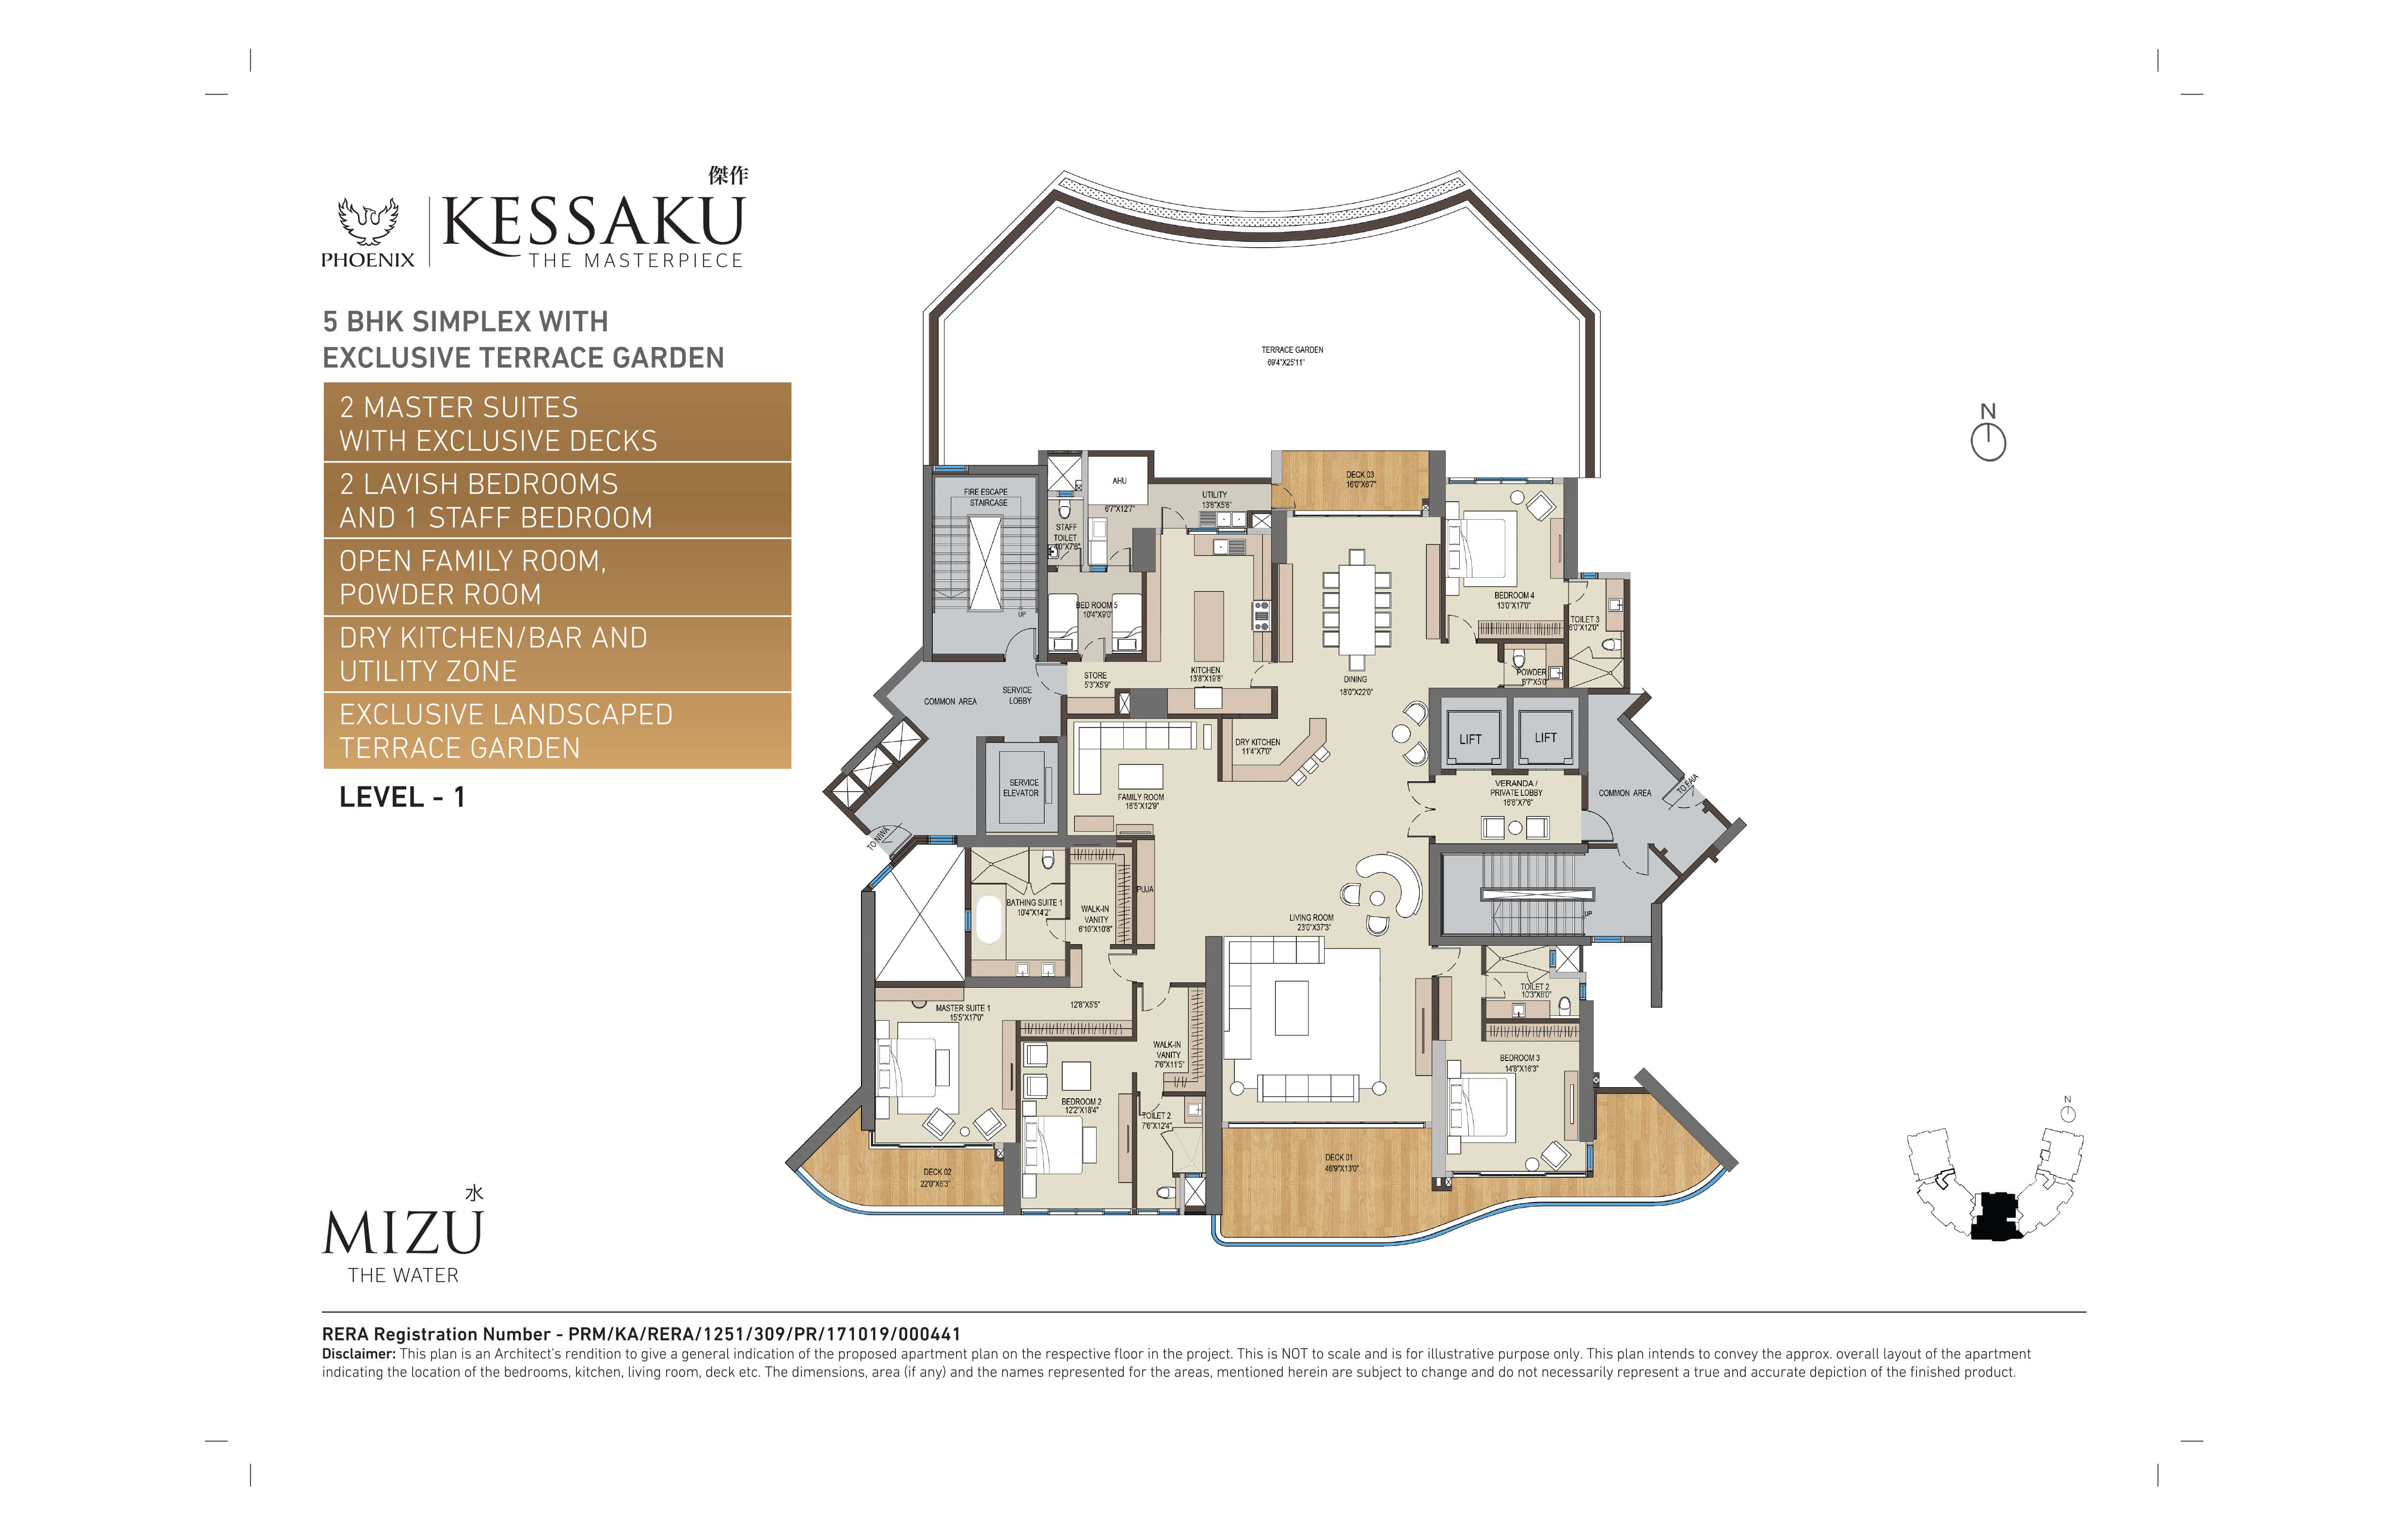door: (1401, 779, 1439, 839), (1429, 946, 1466, 977), (1581, 810, 1618, 842), (1615, 846, 1652, 877), (1032, 661, 1065, 695), (1004, 626, 1037, 656), (1446, 612, 1476, 644), (1139, 988, 1172, 1016), (1106, 951, 1134, 982), (1160, 503, 1188, 533), (1043, 917, 1069, 942)
